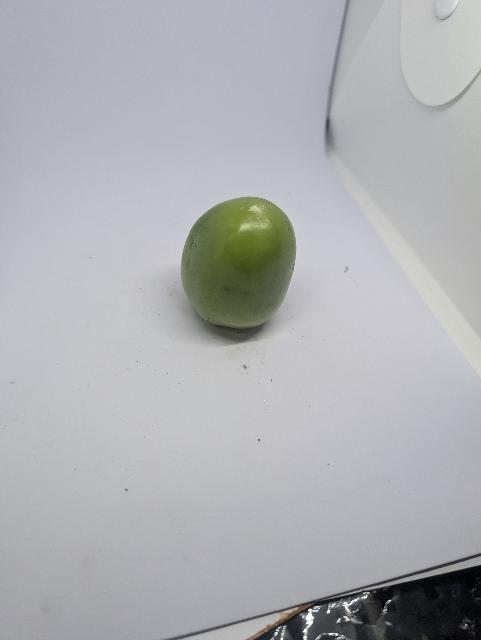green: (170, 185, 301, 341)
